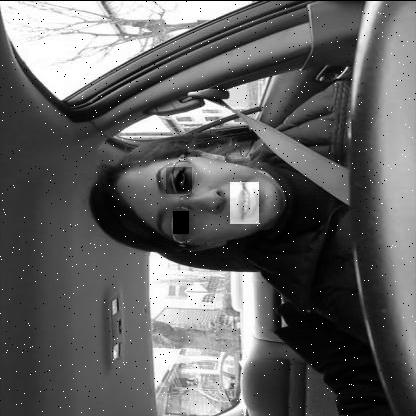seatbelt: (88, 81, 416, 278)
